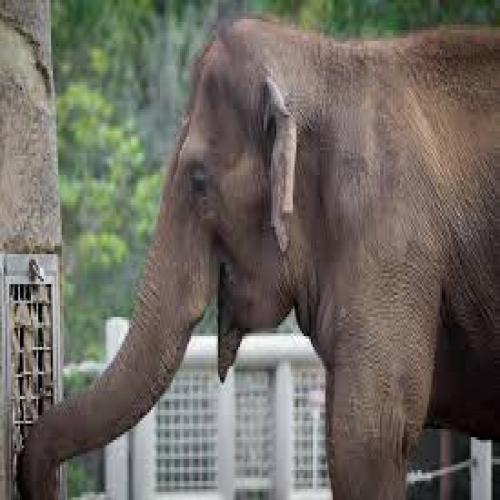asian_elephant-endangered: (19, 22, 500, 500)
